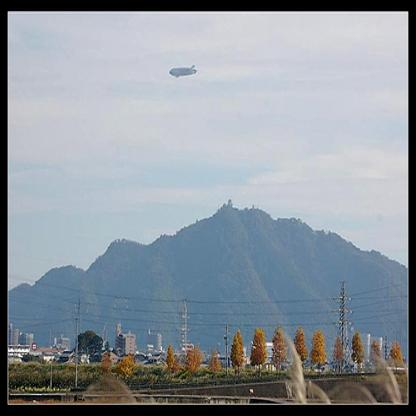Airship: (165, 64, 200, 82)
